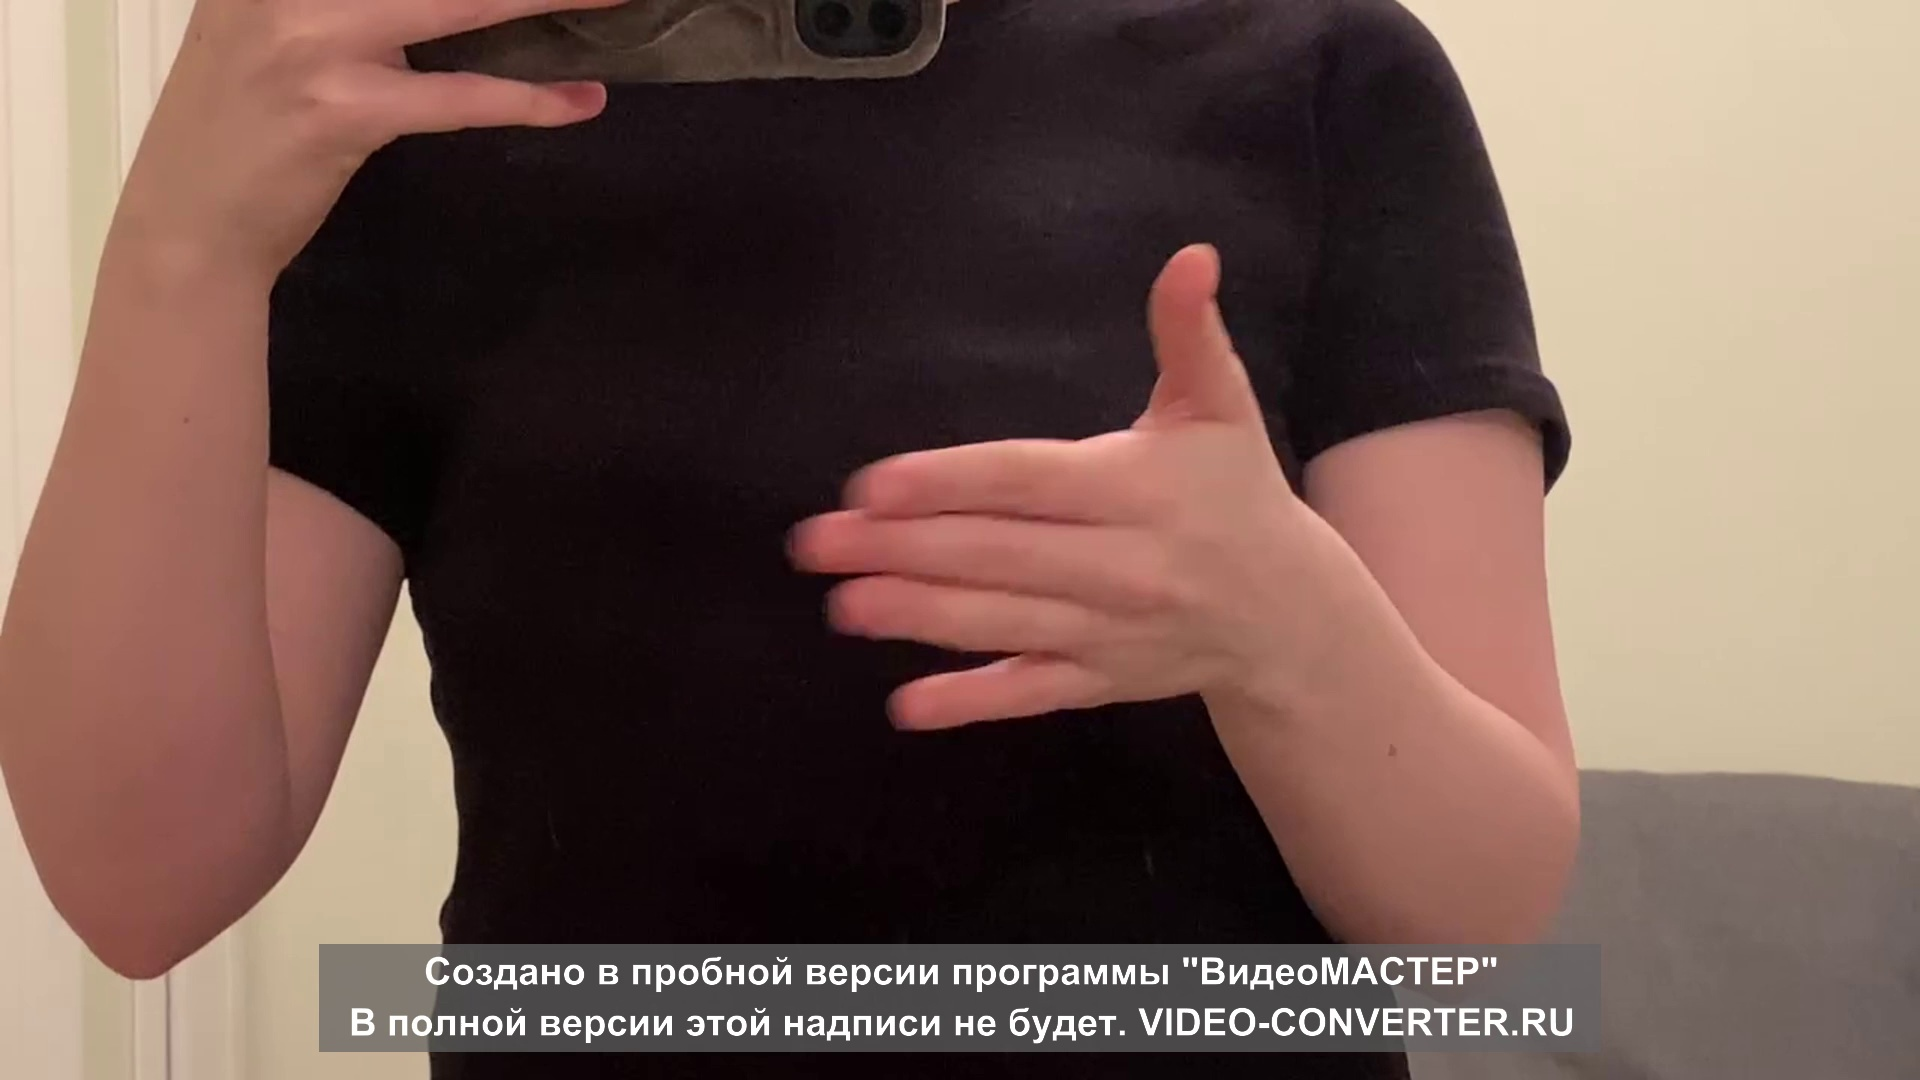Кисть: (786, 241, 1282, 727)
